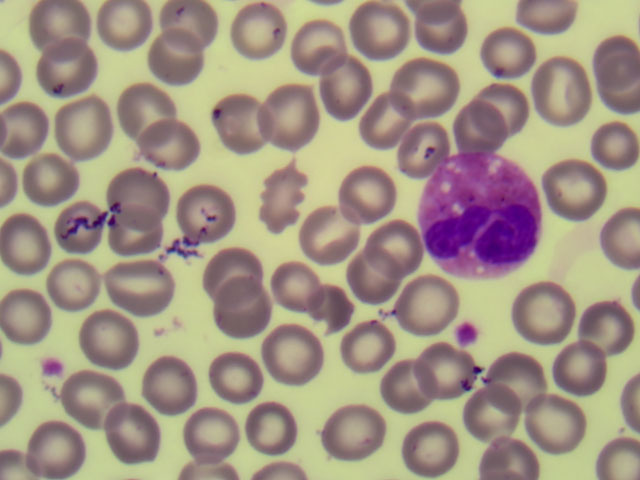Platelets: (453, 320, 477, 345), (42, 360, 62, 380)
RBC: (384, 55, 457, 120), (102, 167, 172, 227), (134, 113, 202, 174), (252, 155, 306, 231), (52, 94, 114, 159), (256, 80, 316, 147), (117, 80, 179, 144), (108, 257, 175, 315), (144, 29, 206, 89), (36, 38, 98, 96), (102, 403, 160, 465), (535, 56, 587, 124), (30, 417, 86, 480), (264, 325, 323, 382), (157, 1, 219, 52), (213, 283, 269, 339), (206, 246, 262, 302), (401, 420, 457, 476), (325, 403, 381, 459), (399, 279, 455, 335), (346, 244, 402, 300), (368, 218, 424, 274), (301, 207, 357, 263), (337, 163, 393, 219), (357, 89, 413, 145), (313, 57, 369, 113), (289, 20, 345, 76), (208, 96, 264, 152), (552, 337, 608, 393), (514, 284, 570, 340), (488, 350, 544, 406), (529, 393, 585, 449), (464, 383, 520, 439), (421, 341, 477, 397), (381, 358, 437, 414), (341, 320, 397, 376), (478, 24, 534, 80), (584, 117, 640, 173), (549, 159, 605, 215), (440, 85, 496, 141), (472, 82, 528, 138), (581, 298, 635, 356), (227, 1, 283, 56), (352, 1, 408, 56), (28, 1, 88, 52), (596, 207, 640, 274), (46, 255, 101, 308), (54, 199, 109, 252), (177, 186, 232, 239), (209, 347, 264, 400), (246, 399, 301, 452), (106, 201, 161, 254), (22, 152, 77, 205), (184, 407, 239, 460), (143, 357, 198, 410), (65, 370, 120, 423), (81, 312, 136, 365), (1, 105, 55, 158), (95, 1, 150, 53), (1, 217, 54, 270), (1, 288, 54, 341), (482, 433, 540, 480), (269, 260, 321, 311), (590, 33, 640, 81), (308, 283, 358, 330), (416, 10, 469, 53), (594, 433, 640, 480), (514, 1, 583, 32), (179, 449, 243, 480), (1, 41, 29, 111), (1, 435, 43, 480), (595, 76, 639, 114), (1, 368, 26, 425), (612, 375, 640, 425), (256, 454, 307, 480), (1, 159, 25, 211), (410, 1, 465, 20)
WBC: (418, 154, 541, 277)
